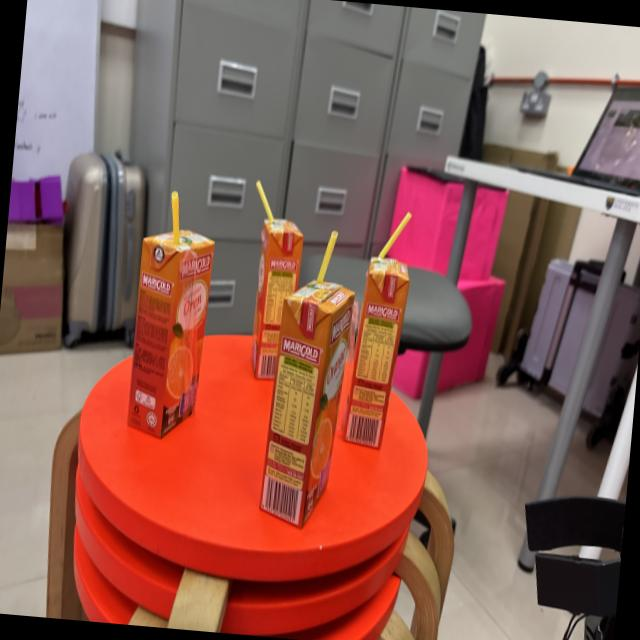drink_carton: (254, 212, 364, 540), (118, 178, 224, 448), (340, 204, 420, 464), (231, 172, 316, 392)
